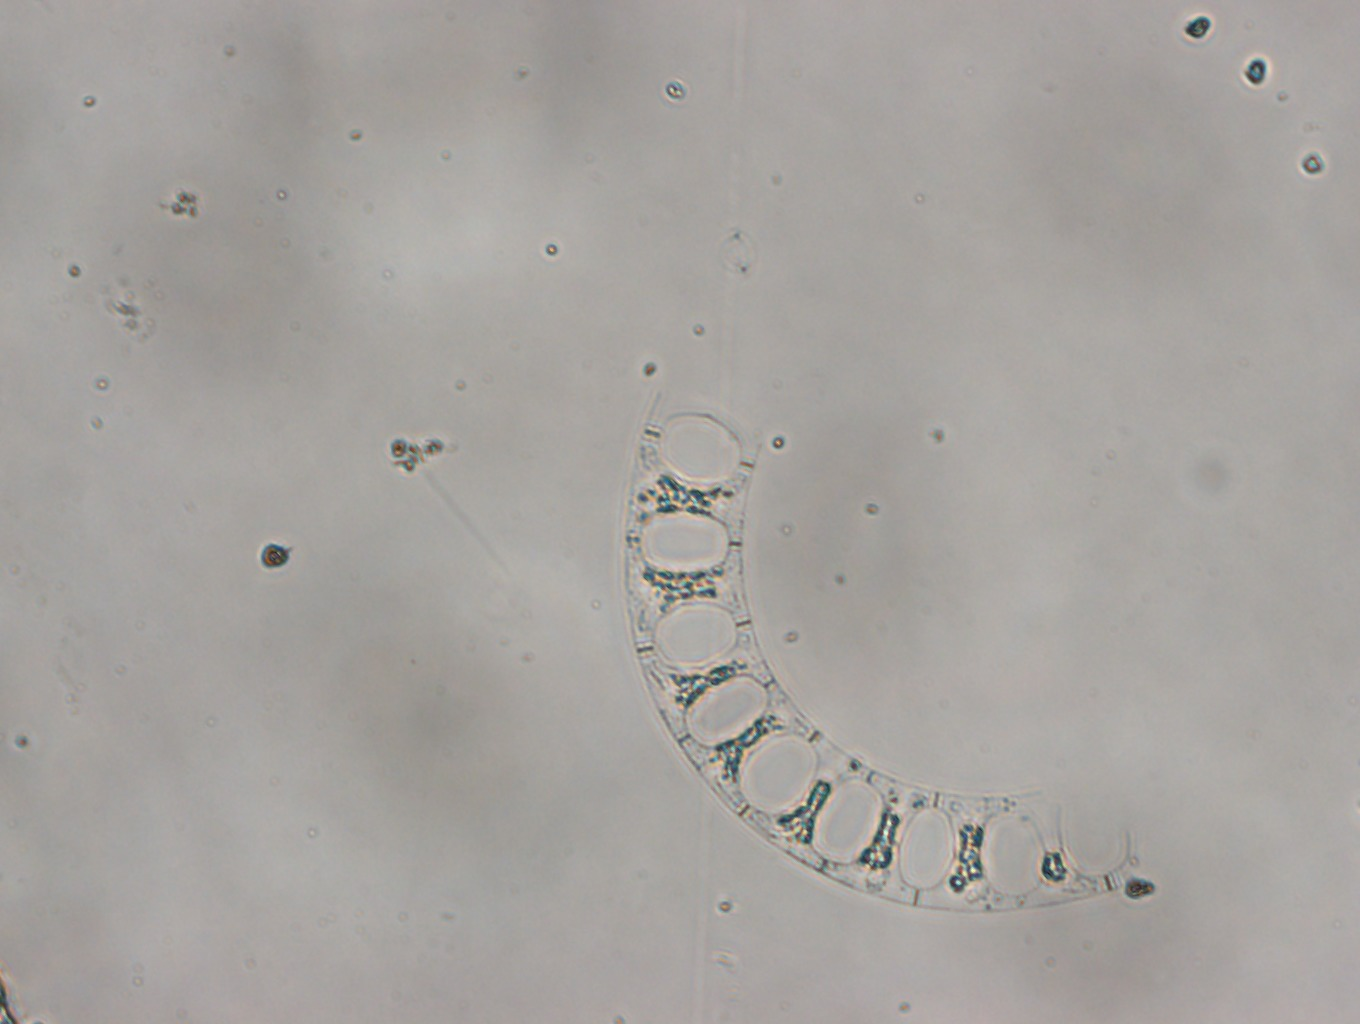eucampia: (622, 382, 1140, 911)
